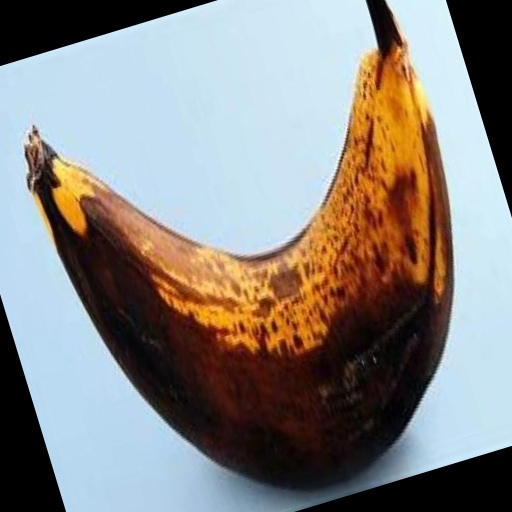fruit: (145, 0, 439, 61)
